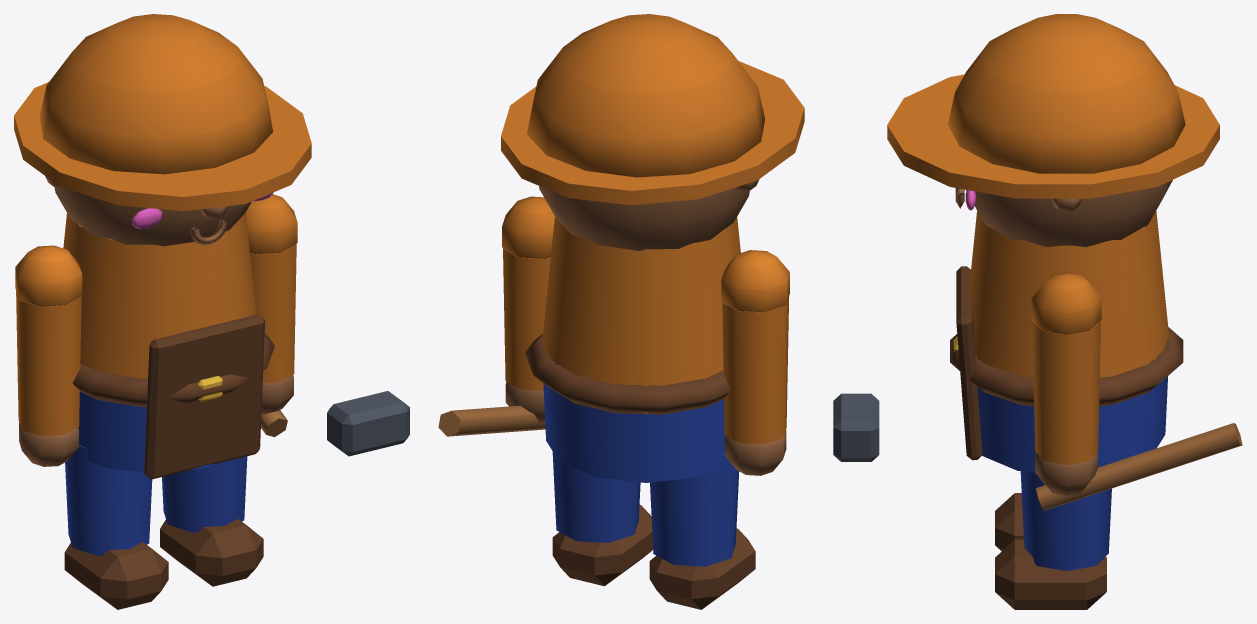
Rendered from villager_builder.glb.
3 views of the same model, side by side, from view 1: azimuth 30°, elevation 25°; view 2: azimuth 150°, elevation 25°; view 3: azimuth 270°, elevation 25° (orthographic).
Visible parts, largest first — view 1: body_t0_palette, arml_t0_palette, armr_t0_palette, legl_t0_palette, legr_t0_palette; view 2: body_t0_palette, arml_t0_palette, legl_t0_palette, armr_t0_palette, legr_t0_palette; view 3: body_t0_palette, armr_t0_palette, legr_t0_palette, legl_t0_palette.
Part boxes in pixels (left/top/right/bottom): body_t0_palette: left=14, top=14, right=311, bottom=479; arml_t0_palette: left=15, top=245, right=82, bottom=466; armr_t0_palette: left=245, top=194, right=409, bottom=456; legl_t0_palette: left=64, top=445, right=168, bottom=609; legr_t0_palette: left=160, top=456, right=263, bottom=586; body_t0_palette: left=501, top=14, right=804, bottom=482; arml_t0_palette: left=721, top=250, right=789, bottom=475; legl_t0_palette: left=649, top=453, right=755, bottom=609; armr_t0_palette: left=438, top=196, right=554, bottom=436; legr_t0_palette: left=552, top=451, right=652, bottom=586; body_t0_palette: left=887, top=14, right=1219, bottom=472; armr_t0_palette: left=833, top=272, right=1242, bottom=510; legr_t0_palette: left=995, top=471, right=1111, bottom=609; legl_t0_palette: left=995, top=493, right=1023, bottom=551.
Bounding box in the file's own units: 0.2466 × 0.4645 × 0.3113.
